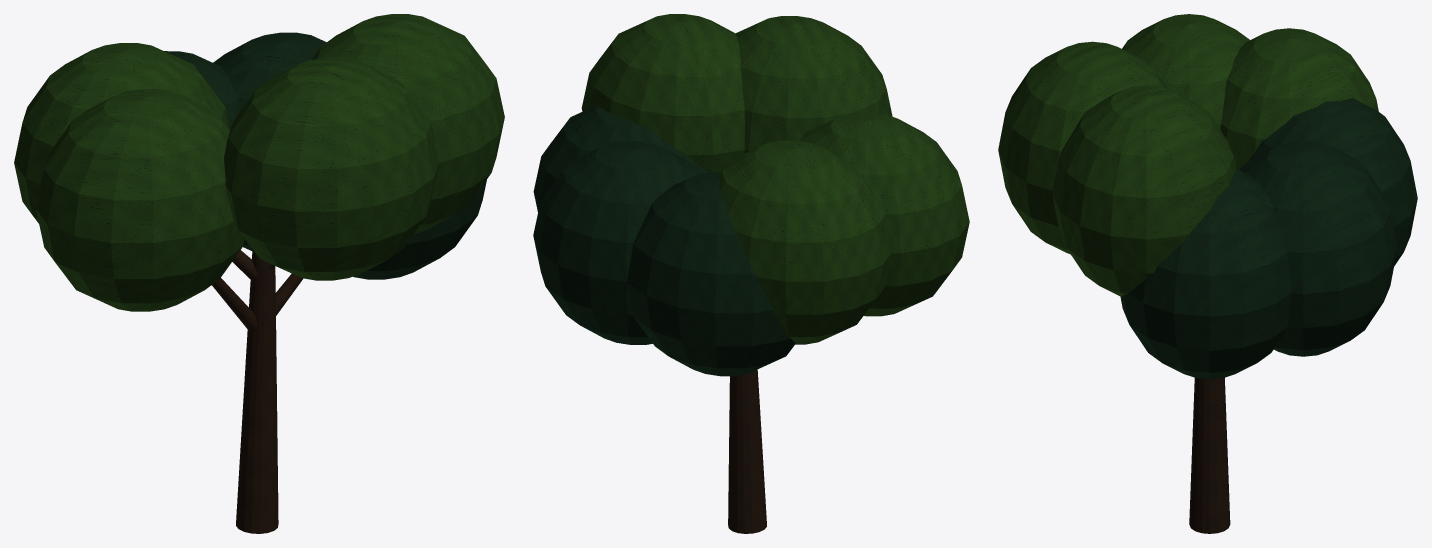
File: PROP-1363EB3367A2_lod0.glb
3 views of the same model, side by side, from view 1: azimuth 30°, elevation 25°; view 2: azimuth 150°, elevation 25°; view 3: azimuth 270°, elevation 25° (orthographic). The views are drawn at different scales.
Parts seen in each view (by area): view 1: leaf_crown.023, trunk.033, leaf_crown.022, branch.015; view 2: leaf_crown.023, leaf_crown.022, trunk.033; view 3: leaf_crown.023, leaf_crown.022, trunk.033.
Part boxes in pixels (<box>): leaf_crown.023: <box>14,14,504,311</box>; trunk.033: <box>236,249,278,533</box>; leaf_crown.022: <box>164,32,486,279</box>; branch.015: <box>212,250,303,332</box>; leaf_crown.023: <box>581,14,969,344</box>; leaf_crown.022: <box>533,107,795,376</box>; trunk.033: <box>728,369,766,533</box>; leaf_crown.023: <box>998,14,1378,296</box>; leaf_crown.022: <box>1120,98,1417,379</box>; trunk.033: <box>1189,377,1230,533</box>.
Bounding box in the file's own units: 5.7 × 6.17 × 4.9.
3 materials, 3 textured.
